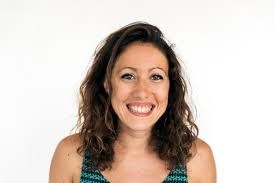white_female: (107, 41, 167, 132)
